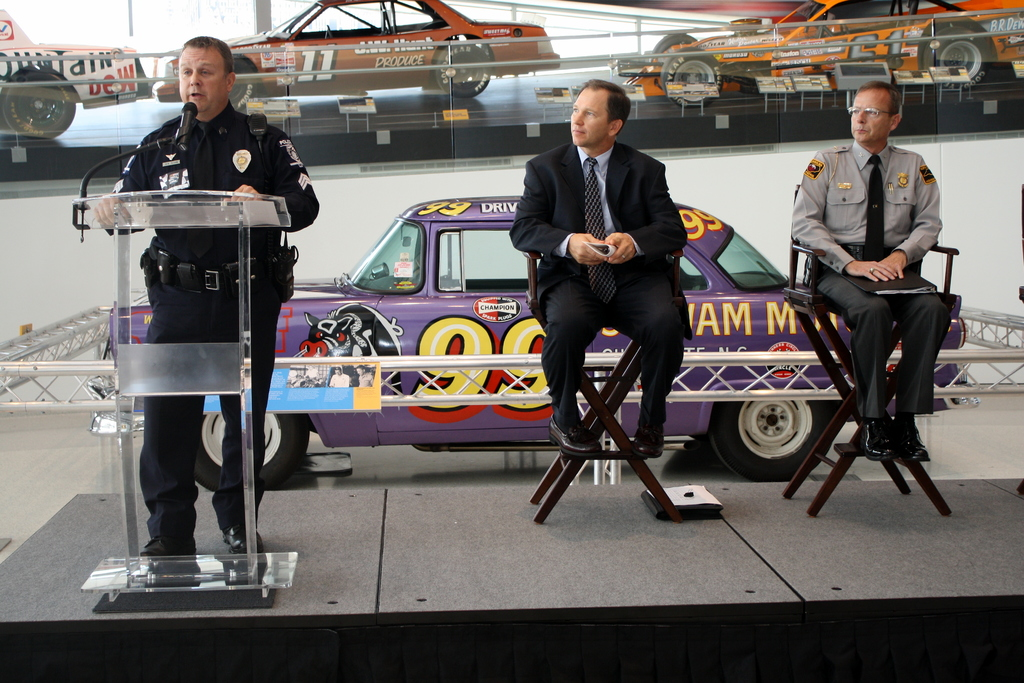cars: (88, 198, 980, 487), (625, 0, 1023, 107), (156, 0, 557, 96), (0, 9, 156, 141)
